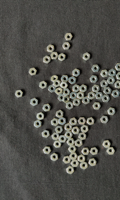nut: (67, 166, 75, 175), (71, 160, 80, 168), (43, 147, 52, 155), (75, 139, 83, 148), (55, 126, 64, 134), (37, 112, 45, 121), (65, 33, 74, 41), (80, 162, 88, 170), (89, 159, 97, 167), (63, 156, 71, 164), (78, 155, 86, 163), (82, 148, 90, 156), (107, 148, 115, 156), (103, 141, 111, 149), (91, 148, 99, 156), (54, 141, 62, 149), (79, 133, 87, 141), (52, 133, 60, 141), (42, 130, 50, 138), (34, 120, 42, 128), (65, 123, 73, 131), (72, 127, 80, 135), (81, 125, 89, 133), (51, 119, 59, 127), (70, 118, 78, 126), (87, 118, 95, 126), (56, 110, 64, 118), (43, 104, 51, 112), (15, 90, 23, 98), (101, 116, 109, 124), (108, 108, 116, 116), (66, 102, 74, 110), (73, 99, 81, 107), (70, 92, 78, 100), (55, 88, 63, 96), (49, 85, 57, 93), (39, 81, 47, 89), (29, 68, 37, 76), (112, 90, 120, 98), (102, 95, 110, 103), (104, 87, 112, 95), (92, 85, 100, 93), (108, 77, 116, 85), (101, 80, 109, 88), (109, 69, 117, 77), (101, 70, 109, 78), (92, 65, 100, 73), (53, 80, 61, 88), (69, 77, 77, 85), (73, 69, 81, 77), (83, 53, 91, 61), (51, 52, 59, 60), (43, 56, 51, 64), (47, 45, 55, 53), (63, 42, 71, 50), (51, 153, 58, 162), (59, 117, 66, 126), (78, 118, 87, 125), (31, 98, 38, 107), (60, 82, 69, 89), (59, 53, 66, 62), (70, 153, 78, 160), (69, 146, 77, 153), (67, 139, 75, 146), (59, 136, 67, 143), (65, 132, 73, 139), (93, 103, 101, 110), (63, 96, 70, 104), (58, 94, 65, 102), (78, 92, 85, 100), (83, 97, 90, 105), (63, 89, 71, 96), (89, 92, 96, 100), (96, 93, 104, 100), (80, 85, 87, 93), (73, 85, 80, 93), (90, 76, 98, 83), (51, 76, 59, 83), (61, 76, 69, 83), (115, 81, 120, 89), (116, 73, 120, 81), (116, 64, 120, 71)
